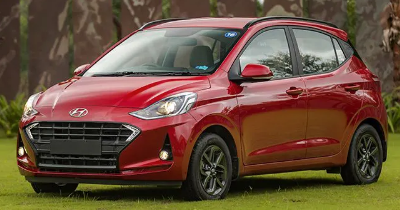car: (12, 15, 393, 205)
